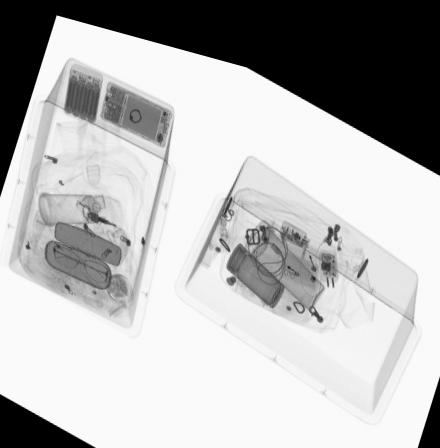Powerbank: (62, 56, 102, 119)
